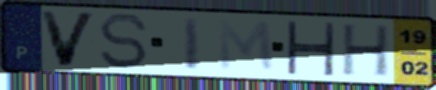H: (283, 19, 338, 77), (339, 23, 392, 79)
I: (181, 15, 203, 72)
M: (215, 18, 277, 75)
S: (96, 12, 151, 71)
V: (36, 8, 100, 68)
